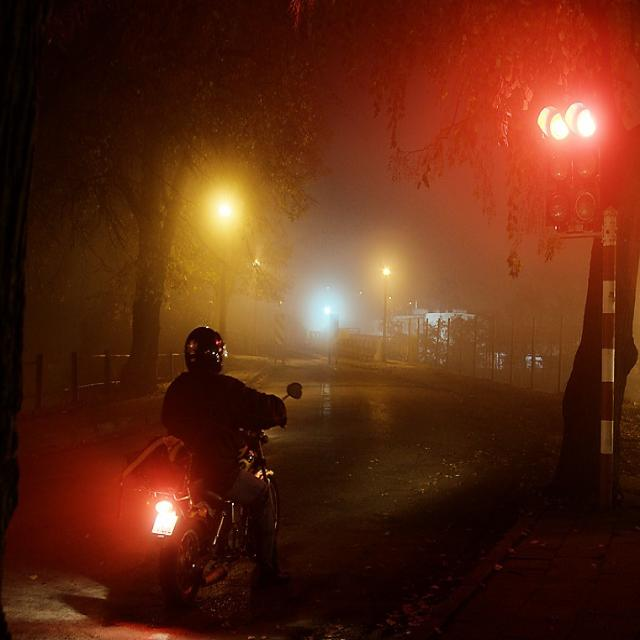Motorbike: (112, 305, 317, 640)
